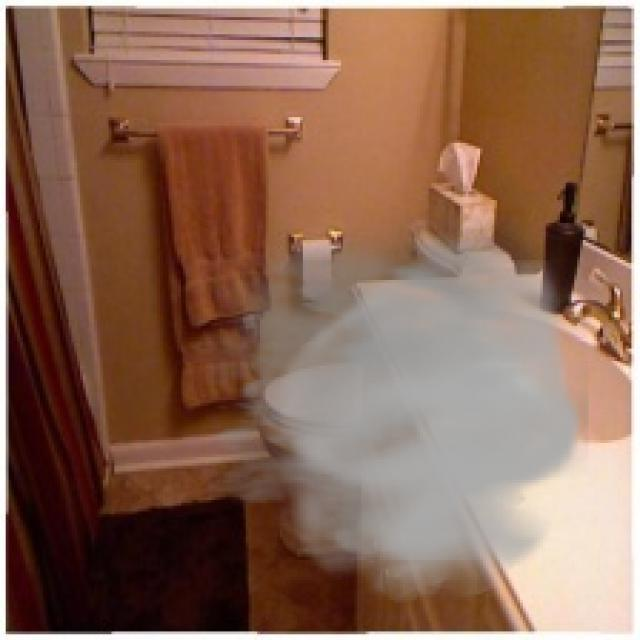Smoke: (166, 208, 588, 603)
